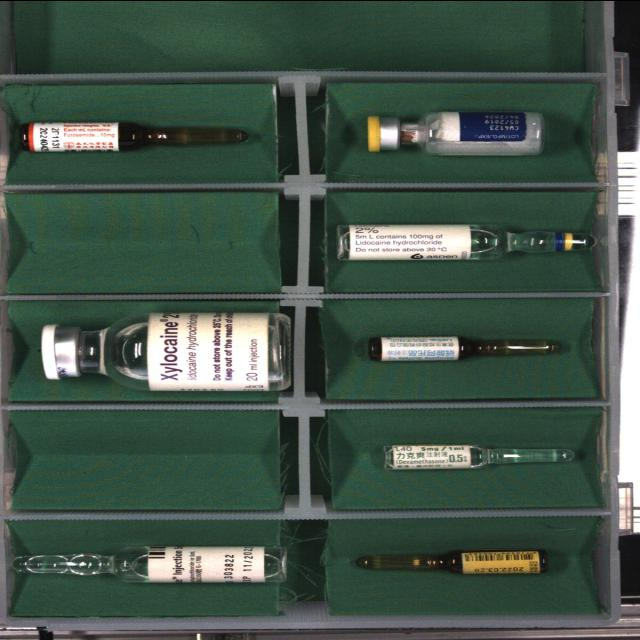Vials: (42, 311, 290, 390), (367, 111, 543, 155)
